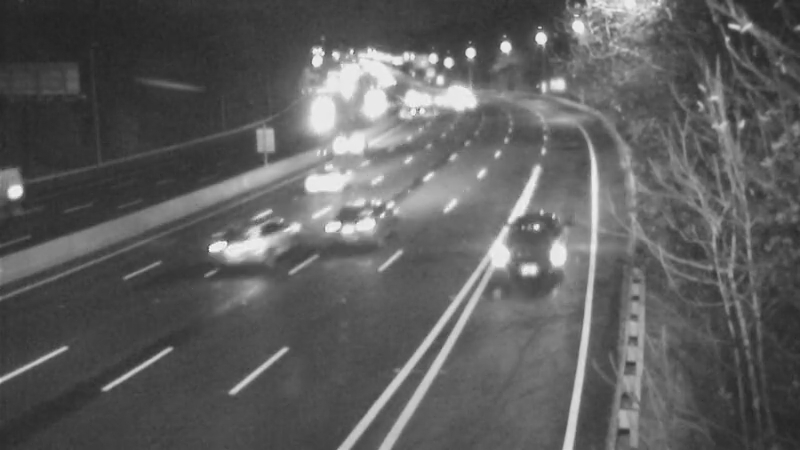vehicle: (283, 141, 363, 221), (325, 188, 405, 268), (201, 210, 281, 290), (490, 230, 570, 310), (382, 86, 432, 136), (340, 114, 390, 164), (294, 87, 344, 137), (346, 74, 396, 124)
